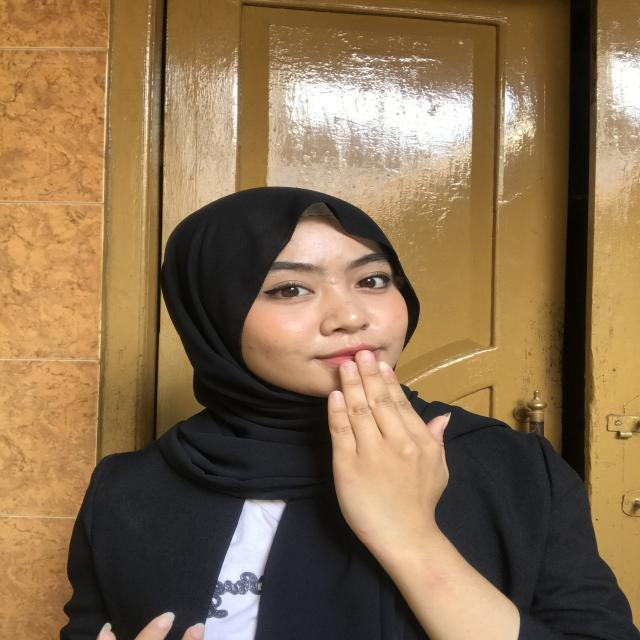ganteng: (304, 346, 466, 527)
